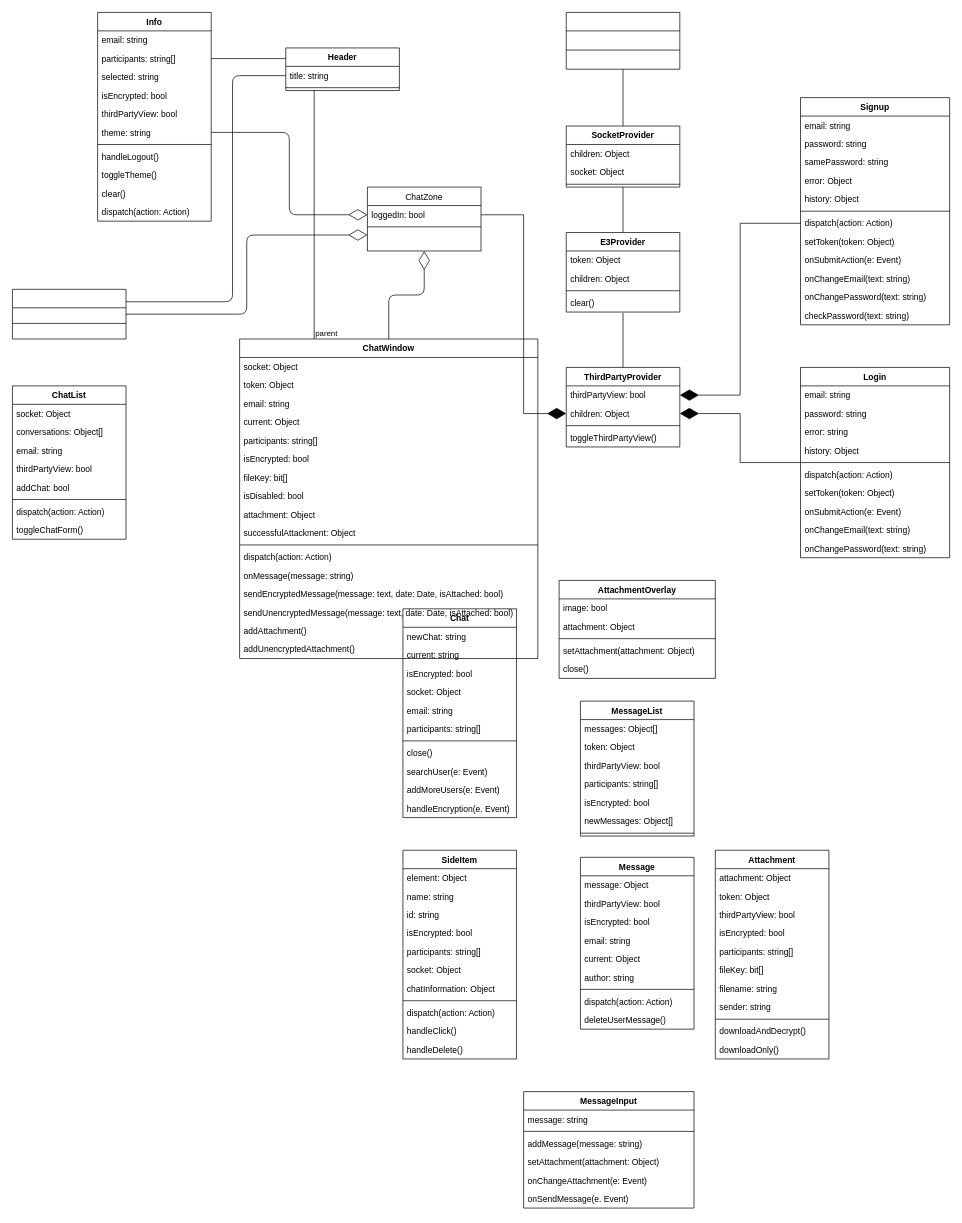
Image size: 962x1223. Some labels were removed from this diagram. Here are the shapes that lost their labels. From the top down, the centre of each, then its label:
point 623,40: App
point 69,314: SidePanel
